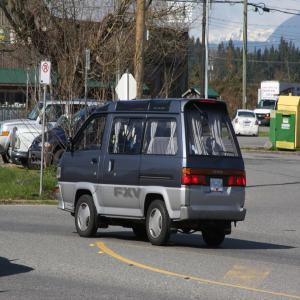Vehicle-registration-plate: (212, 178, 223, 194)
